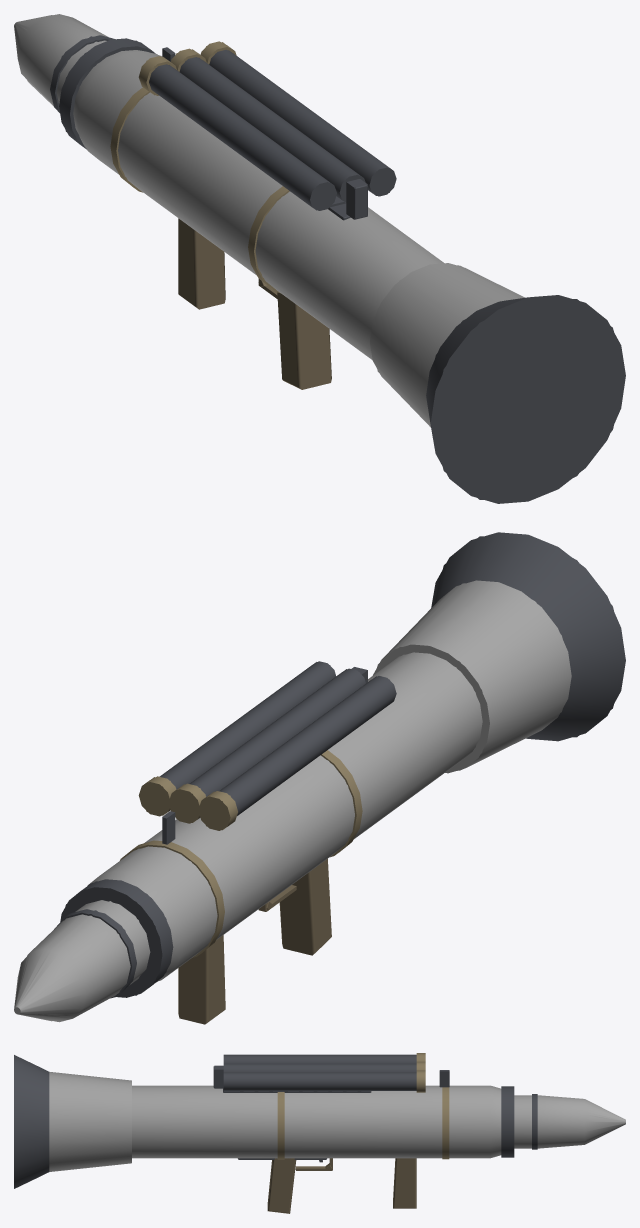
Rendered from la_cluster.glb.
3 renders of one model, top to bottom at view 1: azimuth 30°, elevation 25°; view 2: azimuth 150°, elevation 25°; view 3: azimuth 270°, elevation 25°, orthographic. The views are drawn at different scales.
Visible parts, largest first — view 1: L0, L1; view 2: L0, L1; view 3: L0, L1.
Part boxes in pixels (x1,y1,x2,y2): L0: [14, 14, 625, 503]; L1: [15, 15, 625, 500]; L0: [14, 532, 625, 1024]; L1: [14, 536, 613, 1021]; L0: [14, 1053, 625, 1213]; L1: [14, 1055, 625, 1188].
Size of the model in its own units: 0.2294 by 0.2793 by 1.04.
